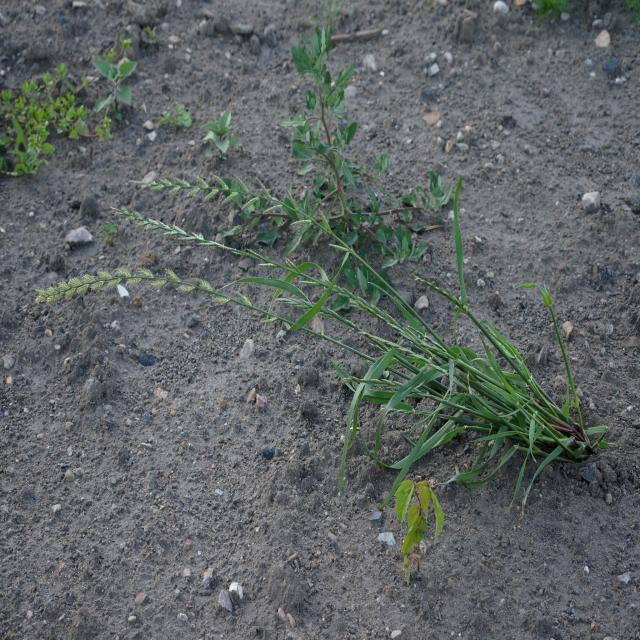Lolium: (327, 233, 596, 489), (136, 161, 332, 233), (37, 267, 254, 308), (113, 208, 220, 245)
